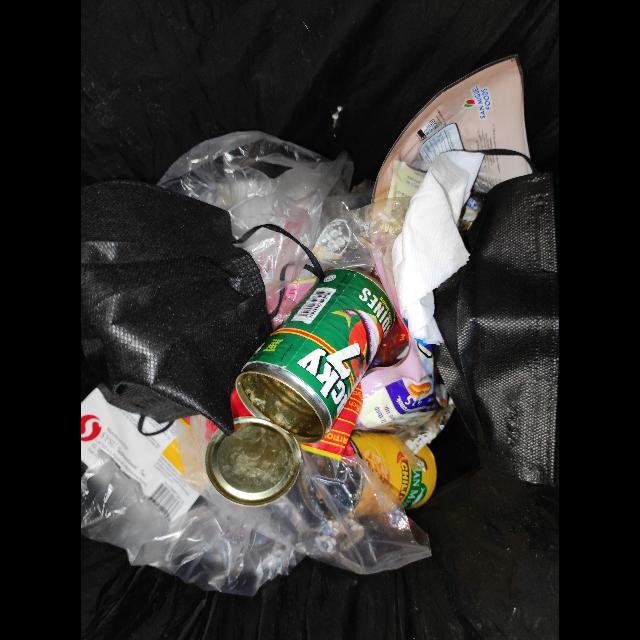aluminum: (204, 270, 397, 509), (350, 431, 438, 510)
food_wrapper: (373, 55, 534, 231), (300, 337, 453, 461)
paper: (392, 151, 485, 346)
plastic_bag: (81, 416, 433, 591), (156, 131, 411, 274), (235, 229, 315, 289)
